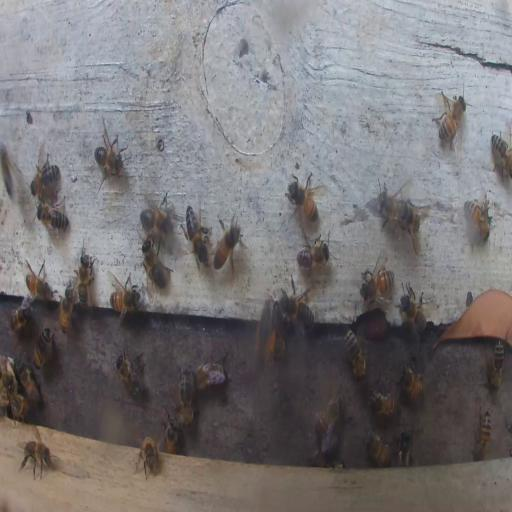nonpollenbee: (94, 124, 130, 183), (434, 89, 468, 151), (376, 186, 413, 236), (398, 282, 432, 336), (184, 203, 211, 267), (140, 238, 171, 293), (214, 214, 242, 274), (18, 436, 54, 480), (115, 346, 144, 398), (313, 394, 342, 444), (280, 285, 312, 330), (30, 153, 60, 196), (288, 177, 320, 217), (394, 199, 424, 240), (77, 241, 95, 308), (465, 198, 492, 242), (140, 199, 172, 236), (344, 329, 367, 380), (133, 437, 160, 480), (368, 383, 400, 419), (36, 198, 68, 234), (16, 361, 42, 405), (111, 277, 140, 316), (360, 266, 393, 300), (472, 405, 492, 461), (25, 262, 54, 300), (194, 355, 226, 389), (490, 132, 512, 180), (297, 237, 330, 269), (399, 362, 424, 404), (365, 428, 391, 466), (178, 367, 194, 425), (10, 294, 34, 332), (33, 326, 53, 368), (489, 338, 505, 390), (2, 149, 16, 197), (60, 287, 74, 335), (162, 418, 180, 454), (396, 430, 412, 467), (10, 394, 30, 420), (2, 360, 14, 398)
pollenbee: (253, 295, 276, 371)
